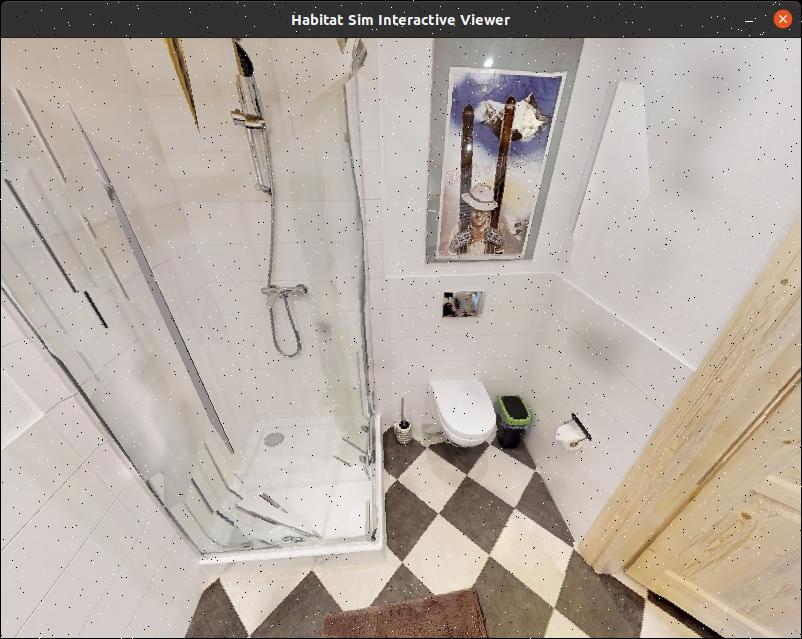shower: (0, 36, 406, 564)
toilet: (426, 369, 503, 462)
